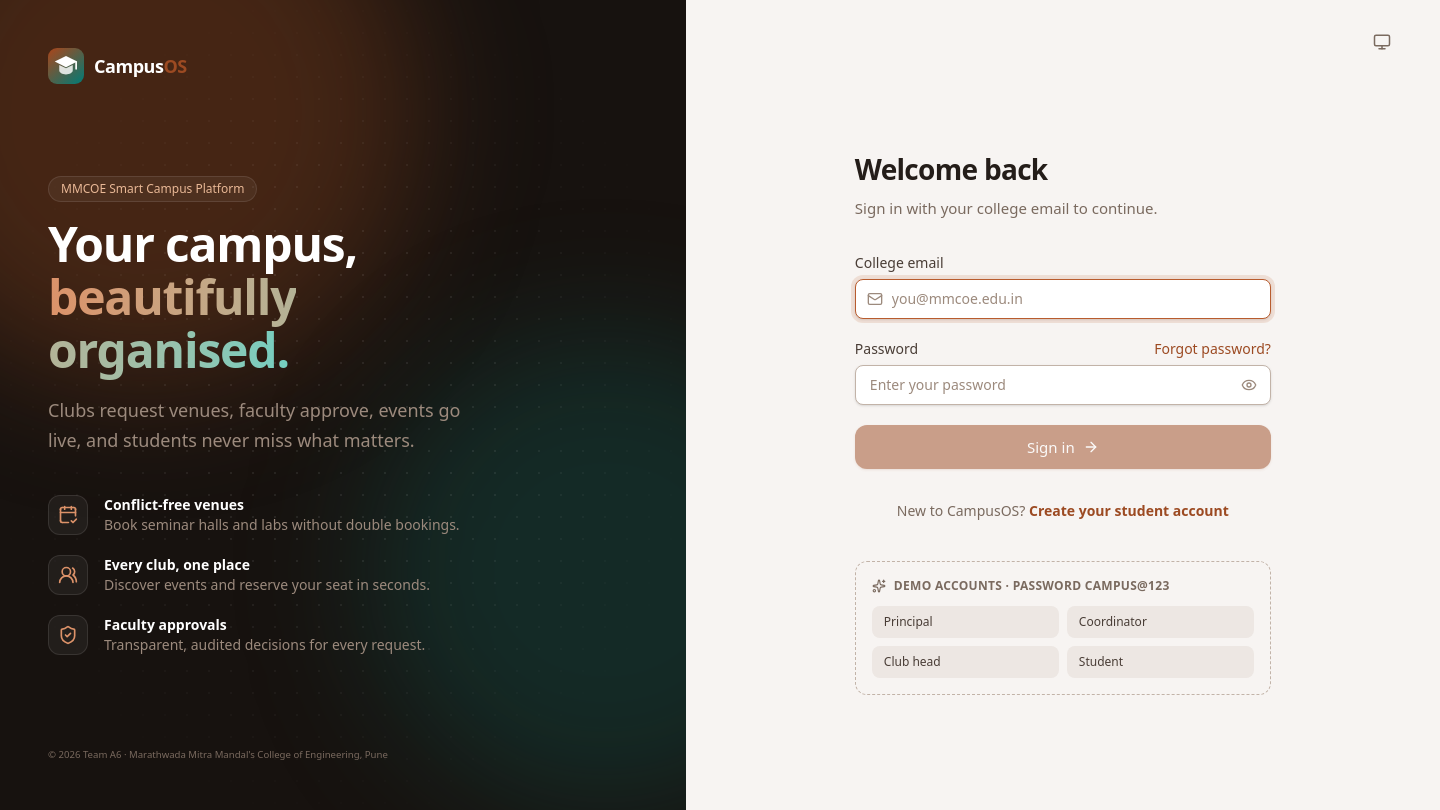
sign in › shows the server message for wrong credentials and stays put
The width and height of the screenshot is (1440, 810).
Type "asha@mmcoe.edu.in" into the field labelled "College email". click: (1063, 299)
box: [855,279,1271,319]
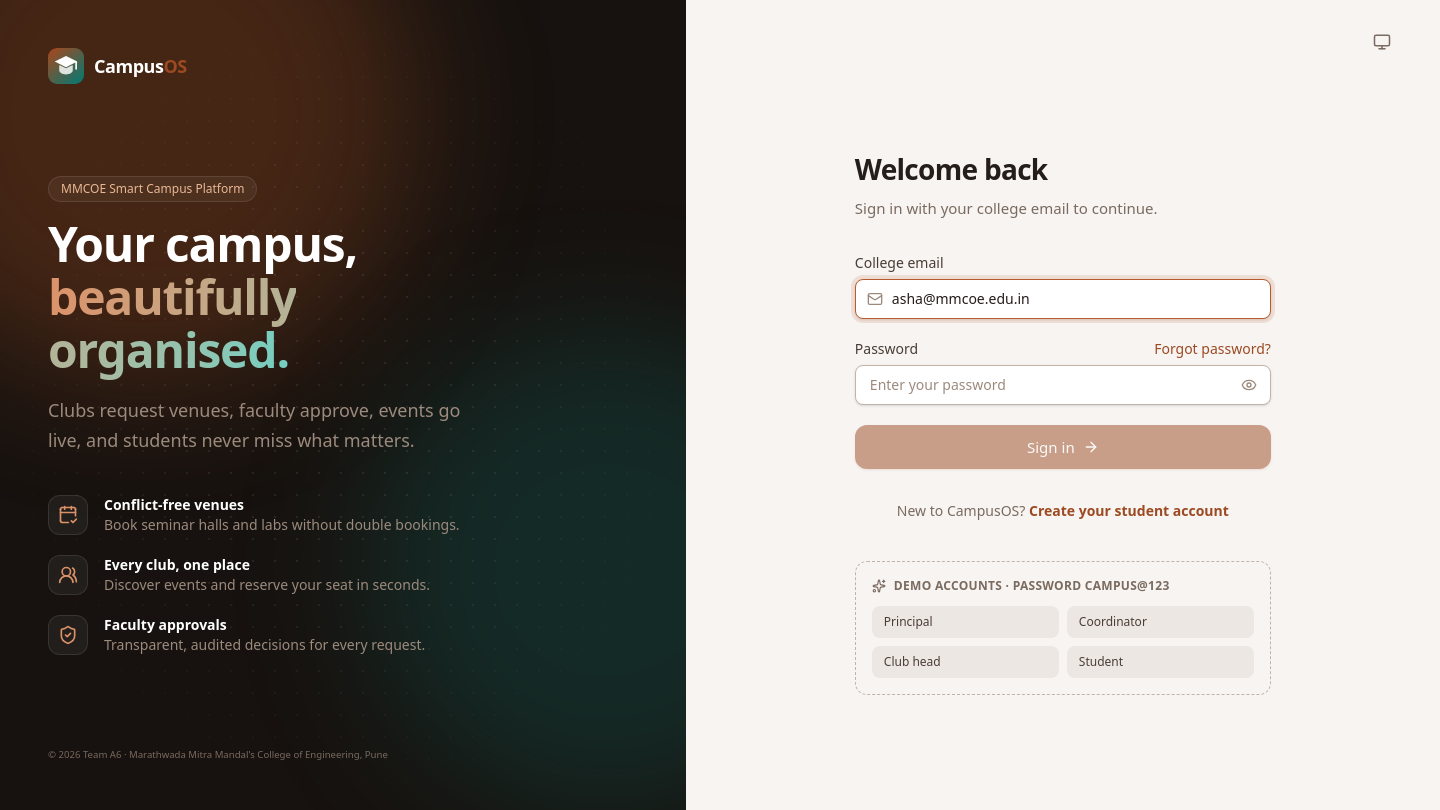
Type "wrong" into the password field labelled "Password". click: (1063, 385)
box: [855,365,1271,405]
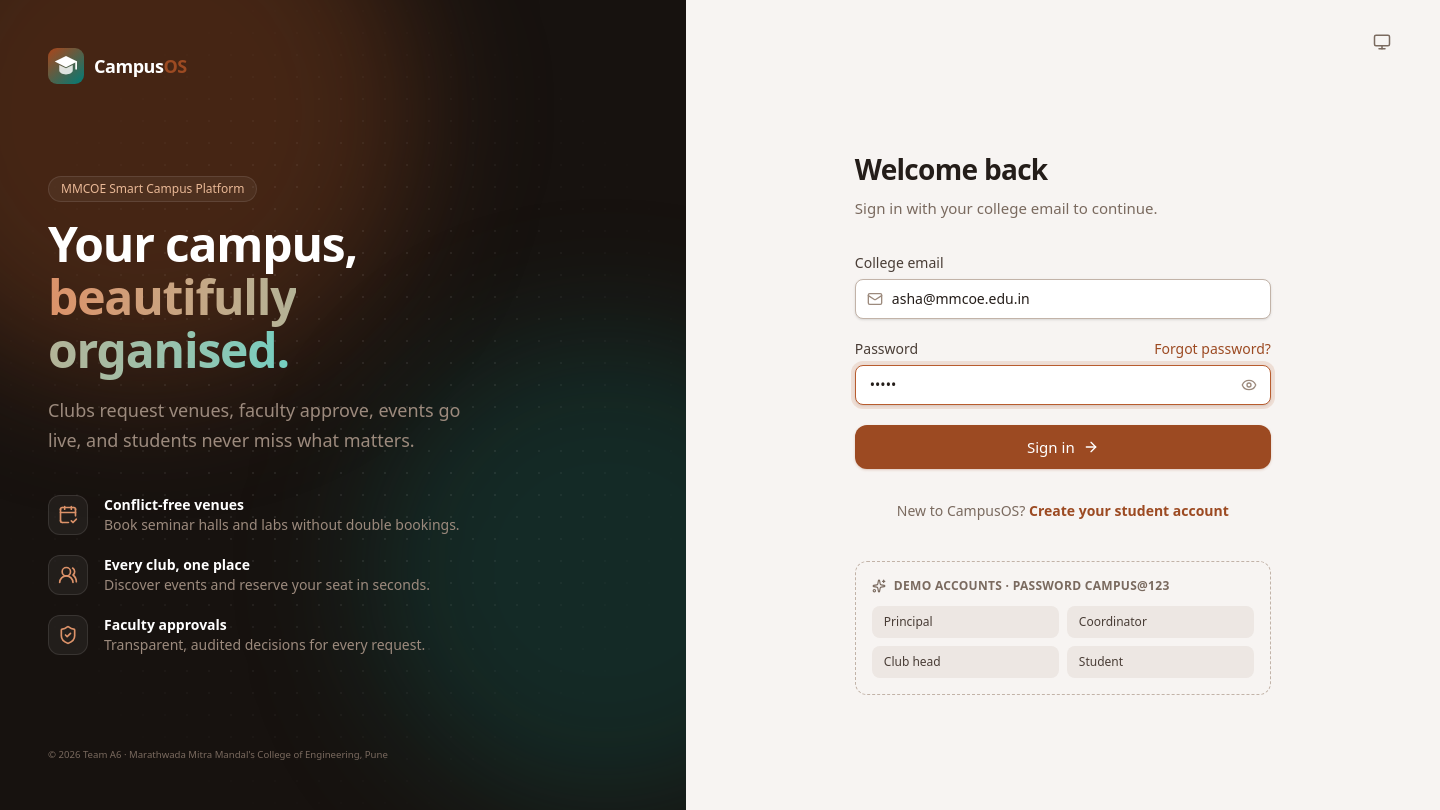
Click the button "Sign in". click: (1063, 447)
box: [855,425,1271,469]
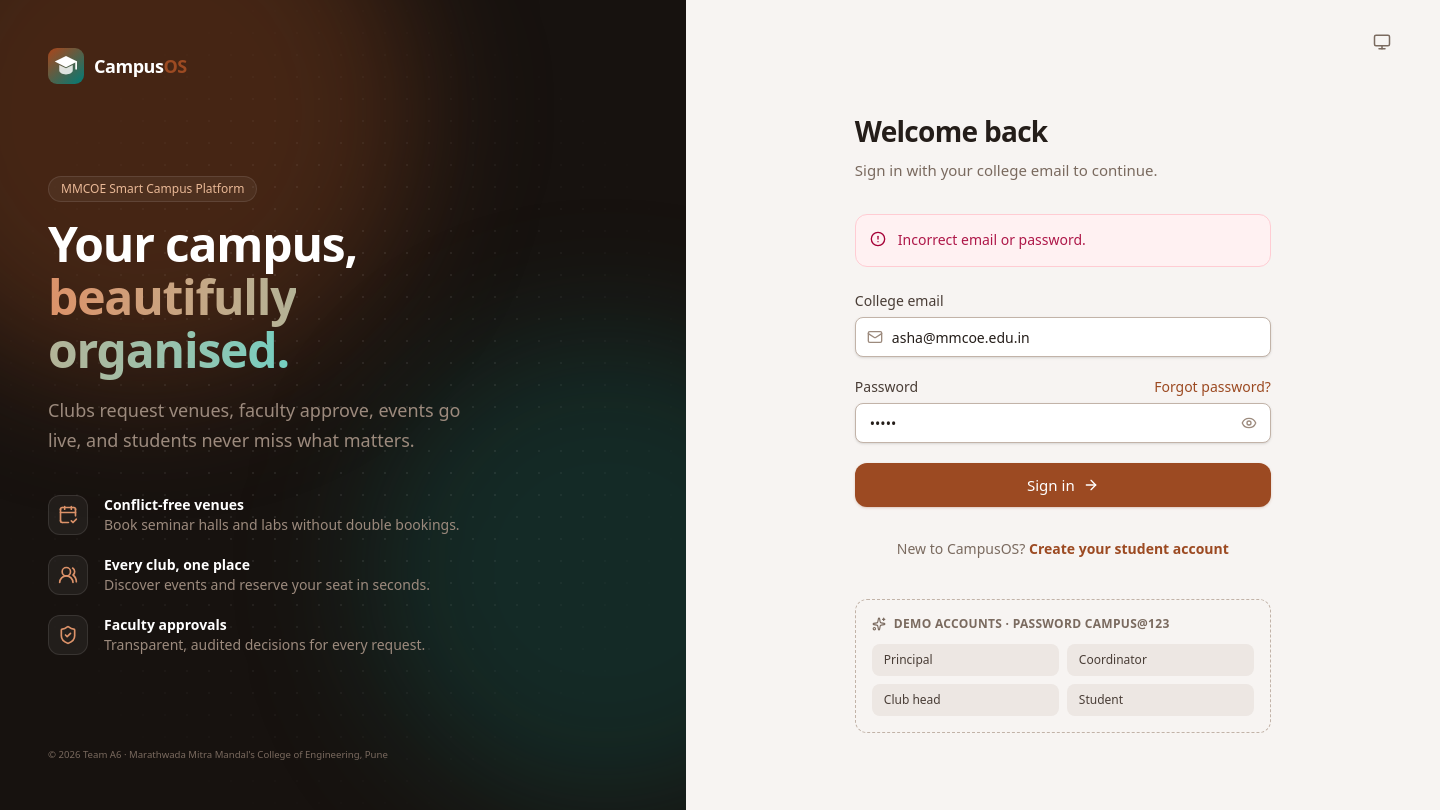
Now the message reads "Incorrect email or password.", box [898,230,1086,250]
